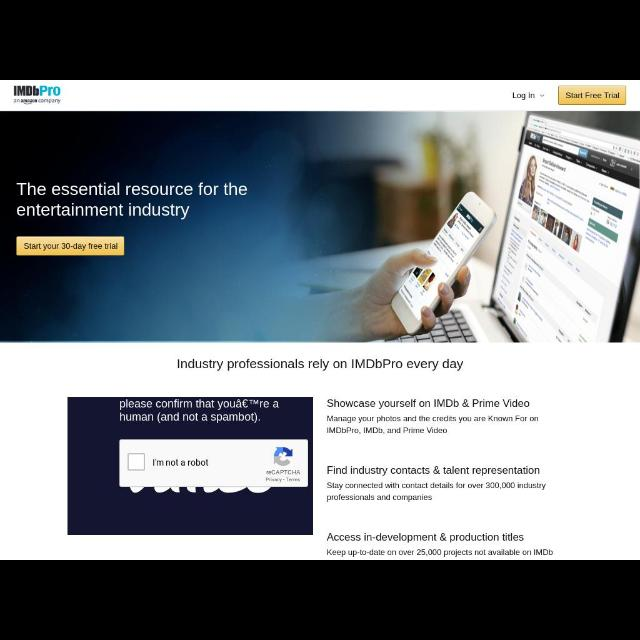checkbox: (127, 454, 145, 471)
icon: (539, 92, 545, 98)
image: (1, 111, 639, 342), (13, 86, 61, 104), (272, 446, 294, 466)
text: (16, 182, 248, 222), (326, 414, 540, 436), (328, 482, 546, 502), (177, 358, 465, 372), (120, 400, 280, 422), (328, 464, 540, 476), (327, 530, 526, 542), (327, 398, 531, 408), (327, 549, 553, 557), (23, 242, 118, 252), (152, 458, 208, 468), (566, 92, 622, 100), (265, 469, 301, 475), (512, 92, 534, 101), (266, 478, 300, 482)
textbutton: (18, 237, 124, 255), (560, 86, 626, 104)
toolbar: (1, 81, 639, 111)
